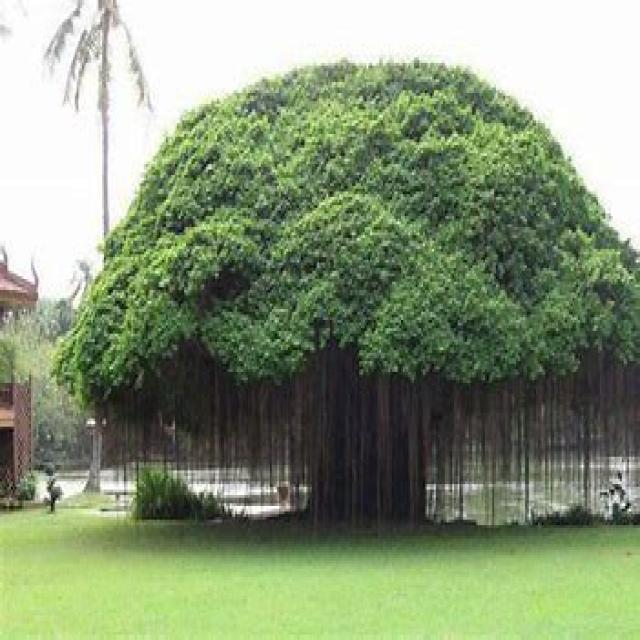Banyan-Tree: (0, 0, 640, 640), (77, 272, 640, 582)
